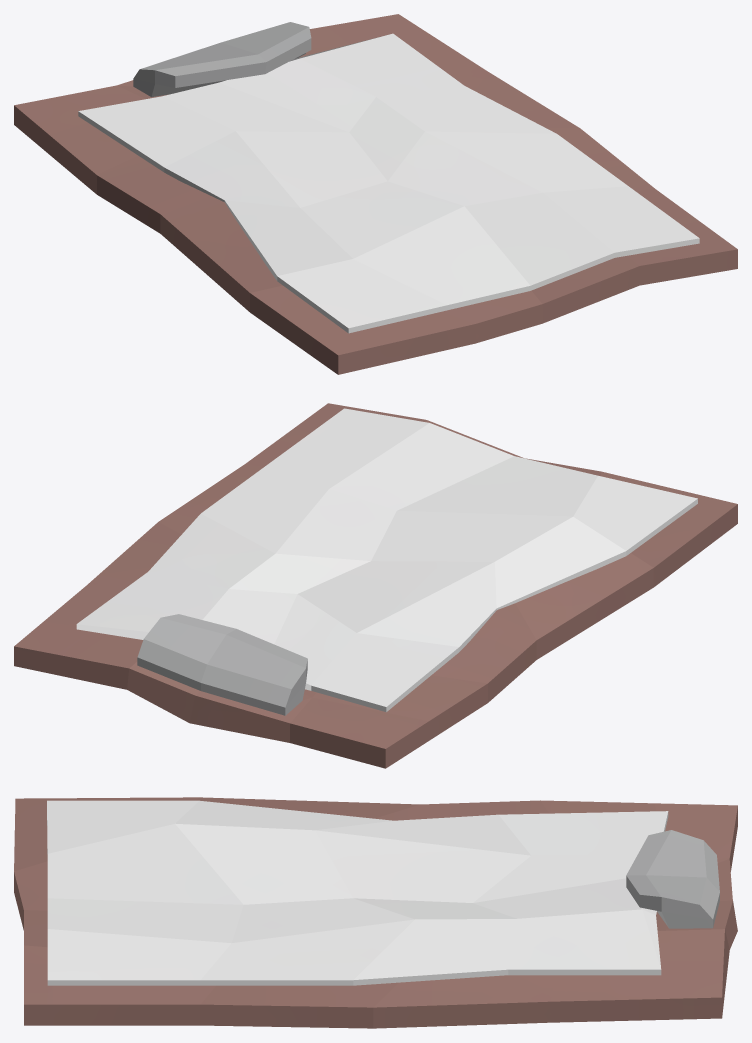
File: clipboard.glb
3 renders of one model, top to bottom at view 1: azimuth 30°, elevation 25°; view 2: azimuth 150°, elevation 25°; view 3: azimuth 270°, elevation 25°, orthographic. The views are drawn at different scales.
Parts seen in each view (by area): view 1: paper, clipboard; view 2: paper, clipboard; view 3: paper, clipboard.
Boxes of the visible parts, bbox=[...] form: paper: bbox=[78, 33, 699, 333]; clipboard: bbox=[14, 14, 737, 374]; paper: bbox=[76, 408, 697, 712]; clipboard: bbox=[14, 403, 737, 768]; paper: bbox=[47, 800, 668, 985]; clipboard: bbox=[14, 797, 737, 1028].
Size of the model in its own units: 0.1803 by 0.0264 by 0.2563.
Materials: 1 (1 with a texture image).
